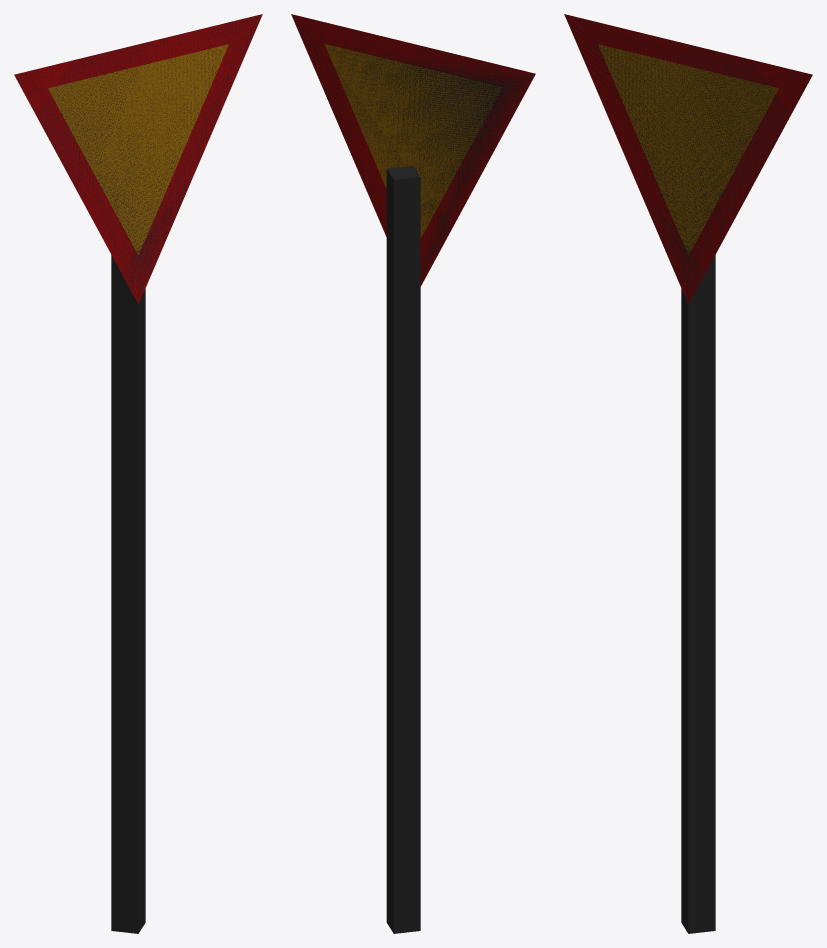
File: giveway.obj
3 views of the same model, side by side, from view 1: azimuth 30°, elevation 25°; view 2: azimuth 150°, elevation 25°; view 3: azimuth 330°, elevation 25° (orthographic).
Parts seen in each view (by area): view 1: Cylinder.002; view 2: Cylinder.002; view 3: Cylinder.002.
Part boxes in pixels (left/top/right/bottom): Cylinder.002: left=14, top=14, right=262, bottom=933; Cylinder.002: left=291, top=14, right=535, bottom=933; Cylinder.002: left=564, top=14, right=812, bottom=933.
Bounding box in the file's own units: 0.8584 × 2.93 × 0.1189.
